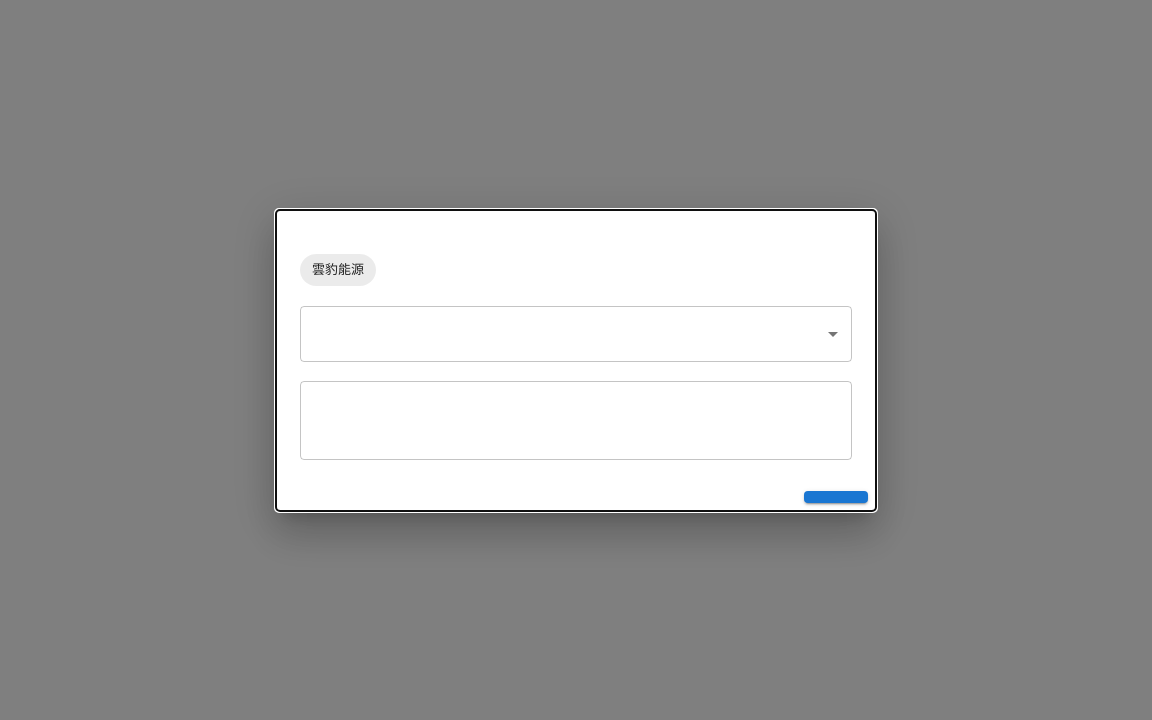
Test: ManageEnergyRolesDialog（成員頁的「管理權限」） › 只列五個中文角色、沒有特權指派權時特權角色選不下去，送出打 role-assignments
Later steps or results of the test are not shown.
Press the mouse on the dropdown with test id "manage-roles-role" at [576, 334], box [300,306,852,362]
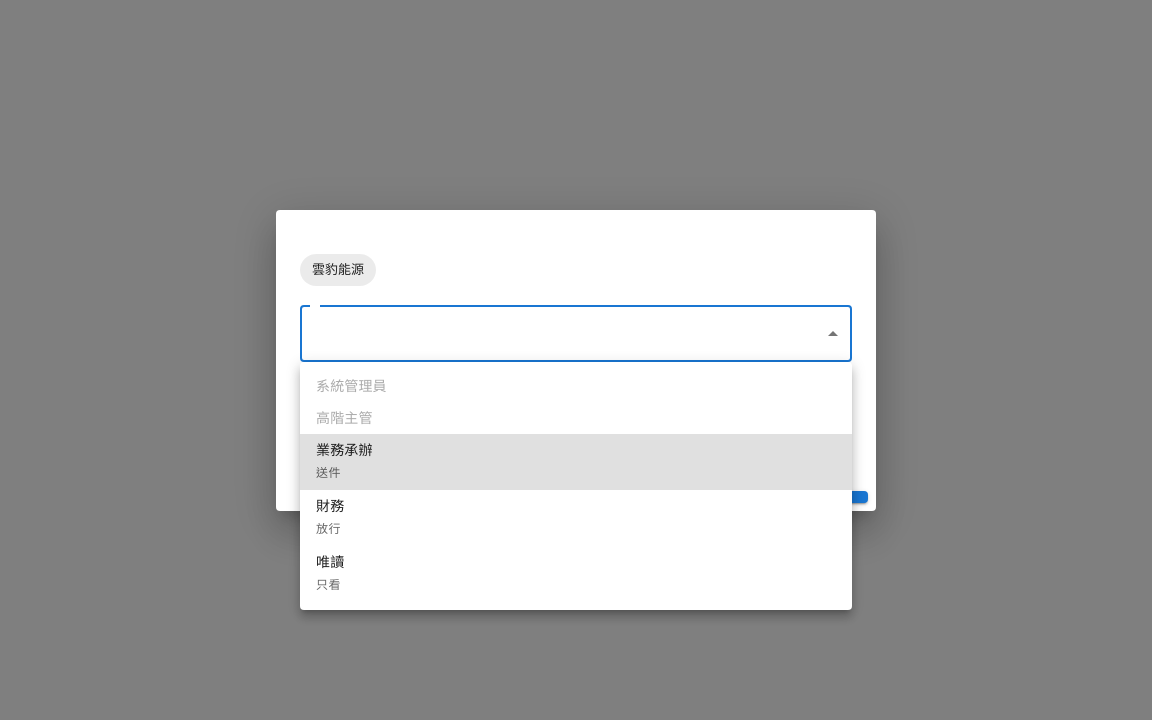
Check: the number of options is 5, box [316,378,387,394]; [316,410,373,426]; [300,434,852,490]; [316,498,344,536]; [316,554,344,592]
